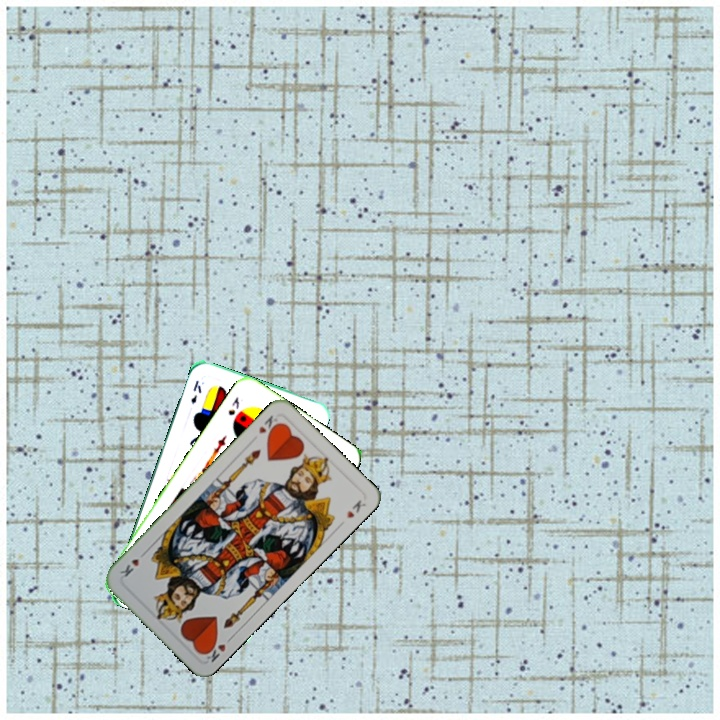EK: (187, 377, 204, 407)
HK: (199, 632, 236, 665), (254, 411, 283, 439)
SK: (224, 393, 242, 418)
